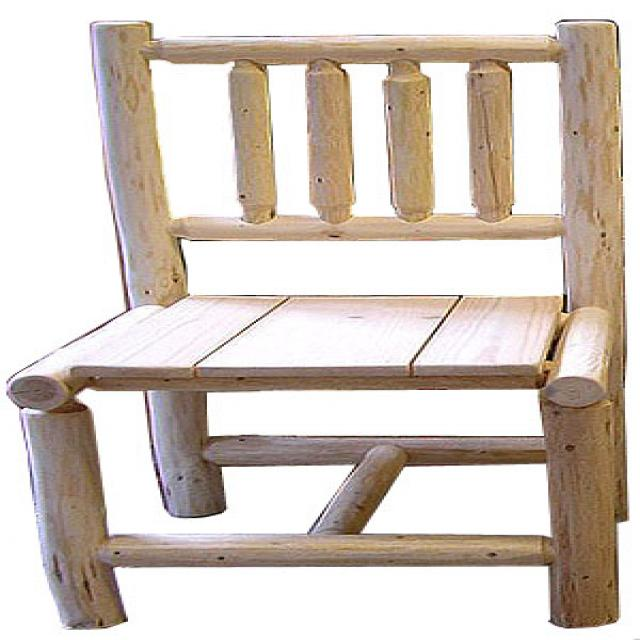Chair: (4, 11, 639, 640)
